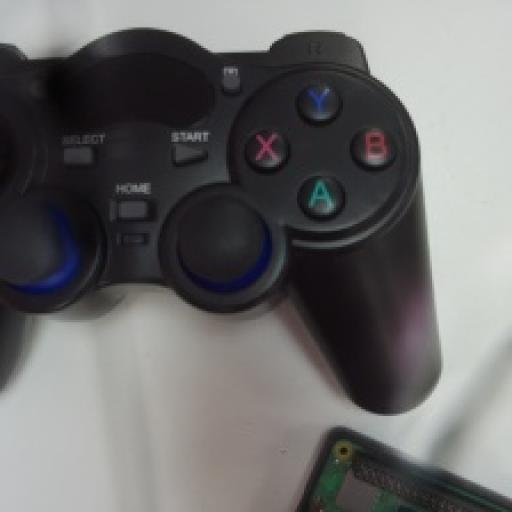game pad: (0, 30, 439, 411)
